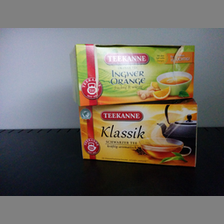tea: (78, 103, 199, 168), (73, 44, 198, 106)
